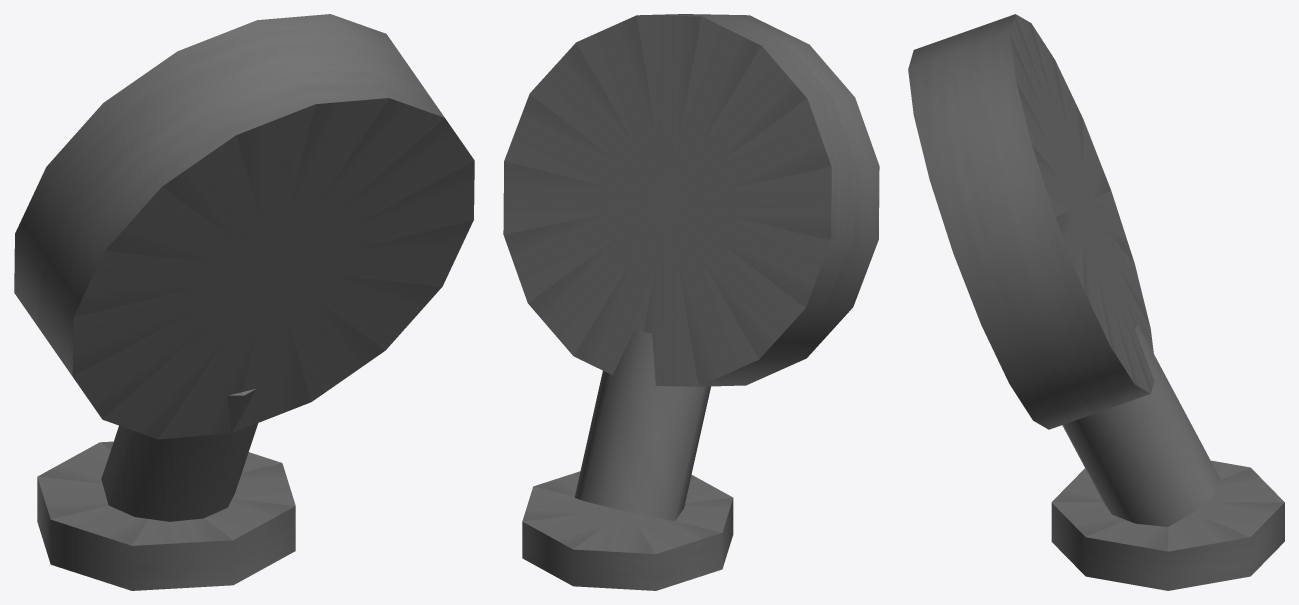
File: mastarmcurve_10x2_c0_down.obj
3 views of the same model, side by side, from view 1: azimuth 30°, elevation 25°; view 2: azimuth 150°, elevation 25°; view 3: azimuth 270°, elevation 25° (orthographic). The views are drawn at different scales.
Visible parts, largest first — view 1: mastarm_10x2_c0_down; view 2: mastarm_10x2_c0_down; view 3: mastarm_10x2_c0_down.
Boxes of the visible parts, <box> form: mastarm_10x2_c0_down: <box>14,14,474,590</box>; mastarm_10x2_c0_down: <box>503,14,879,590</box>; mastarm_10x2_c0_down: <box>908,14,1284,590</box>.
Bounding box in the file's own units: 0.6912 × 0.9608 × 0.6457.
